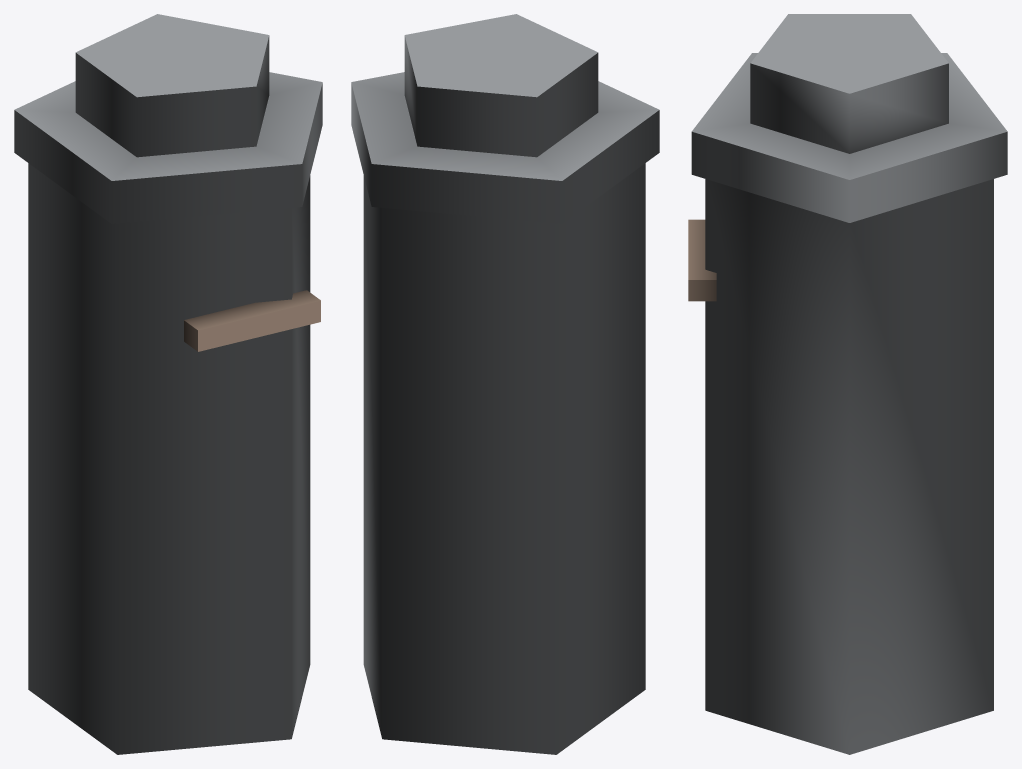
The model's file is post_box.lod2.glb.
The picture shows the model from 3 angles, left to right: view 1: azimuth 30°, elevation 25°; view 2: azimuth 150°, elevation 25°; view 3: azimuth 270°, elevation 25°; orthographic projection.
Visible parts, largest first — view 1: props_post_box.lod2; view 2: props_post_box.lod2; view 3: props_post_box.lod2.
Boxes of the visible parts, bbox=[...] form: props_post_box.lod2: bbox=[14, 14, 322, 754]; props_post_box.lod2: bbox=[351, 14, 659, 754]; props_post_box.lod2: bbox=[688, 14, 1007, 754].
Size of the model in its own units: 0.6332 by 1.49 by 0.6729.
